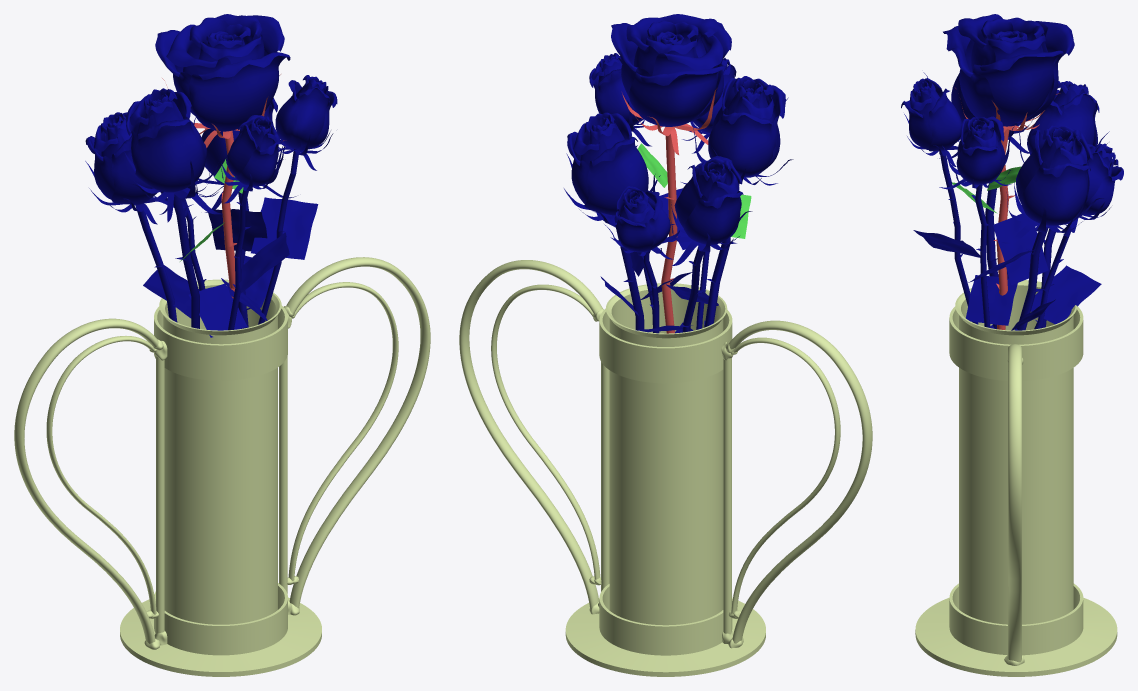
Rendered from Iron_heart_roses.obj.
3 views of the same model, side by side, from view 1: azimuth 30°, elevation 25°; view 2: azimuth 150°, elevation 25°; view 3: azimuth 270°, elevation 25° (orthographic).
Visible parts, largest first — view 1: Circle002, Sphere010, Sphere022, Sphere066, Sphere083, Sphere081, Sphere044, Sphere031, Line010; view 2: Circle002, Sphere010, Sphere044, Sphere022, Sphere081, Sphere031, Sphere066, Line010, Sphere083; view 3: Circle002, Sphere010, Sphere044, Sphere066, Sphere083, Sphere031, Sphere081, Sphere022, Line010, Plane006.
Part boxes in pixels (x1,y1,x2,y2): Circle002: [14, 257, 430, 676]; Sphere010: [155, 14, 290, 131]; Sphere022: [124, 88, 222, 328]; Sphere066: [221, 75, 337, 324]; Sphere083: [188, 115, 289, 337]; Sphere081: [85, 112, 193, 322]; Sphere044: [198, 97, 296, 328]; Sphere031: [143, 172, 218, 318]; Line010: [162, 74, 284, 298]; Circle002: [459, 260, 872, 676]; Sphere010: [611, 14, 731, 126]; Sphere044: [564, 112, 675, 330]; Sphere022: [681, 76, 793, 327]; Sphere081: [667, 156, 752, 332]; Sphere031: [604, 186, 693, 333]; Sphere066: [589, 53, 692, 332]; Line010: [622, 88, 717, 333]; Sphere083: [659, 58, 736, 329]; Circle002: [915, 280, 1117, 676]; Sphere010: [943, 14, 1074, 126]; Sphere044: [993, 125, 1103, 330]; Sphere066: [939, 116, 1035, 327]; Sphere083: [901, 78, 1008, 324]; Sphere031: [990, 143, 1123, 329]; Sphere081: [1017, 81, 1109, 328]; Sphere022: [923, 72, 1033, 329]; Line010: [955, 88, 1060, 329]; Plane006: [987, 166, 1021, 190].
Bounding box in the file's own units: 277 × 390 × 129.
